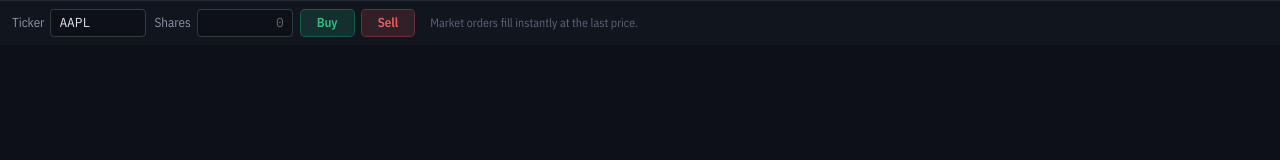
Test: TradeBar › shows server errors
Type "5" into the field with test id "trade-quantity" at x=245, y=23, box [197,9,293,37]
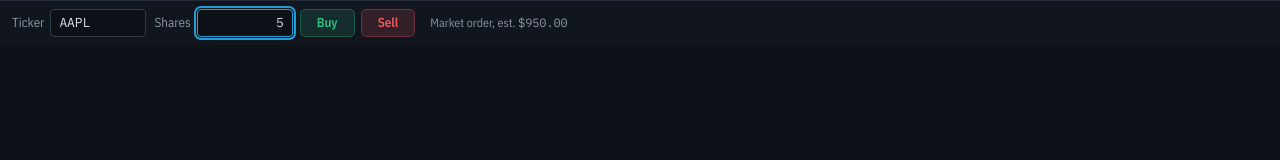
Click the button with test id "trade-sell" at x=388, y=23, box [362,10,414,36]
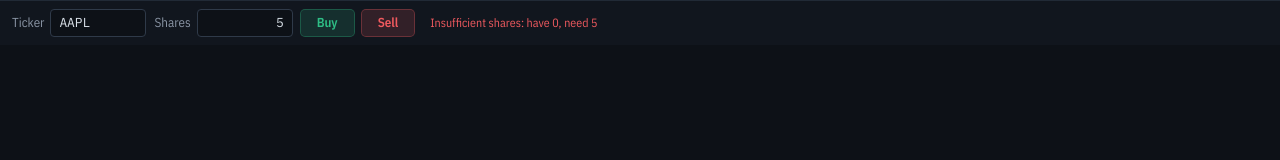
Result: the message with test id "trade-error" shows "Insufficient shares" at [430,15,598,30]
